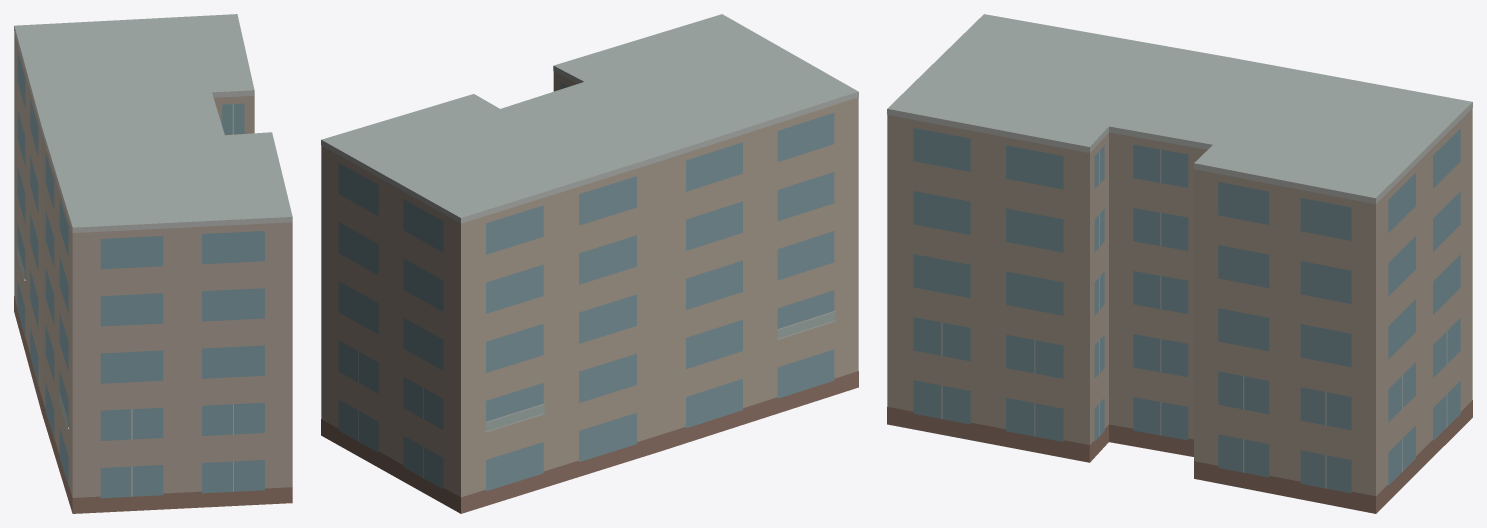
Rendered from survey-upis-32571970.glb.
3 renders of one model, left to right at view 1: azimuth 30°, elevation 25°; view 2: azimuth 150°, elevation 25°; view 3: azimuth 270°, elevation 25°, orthographic. The views are drawn at different scales.
Visible parts, largest first — view 1: survey-upis-32571970.tmp; view 2: survey-upis-32571970.tmp; view 3: survey-upis-32571970.tmp.
Part boxes in pixels (bbox=[...]): survey-upis-32571970.tmp: bbox=[14, 14, 292, 513]; survey-upis-32571970.tmp: bbox=[321, 14, 858, 513]; survey-upis-32571970.tmp: bbox=[887, 14, 1472, 513].
Bounding box in the file's own units: 16.17 × 12.9 × 21.71.
